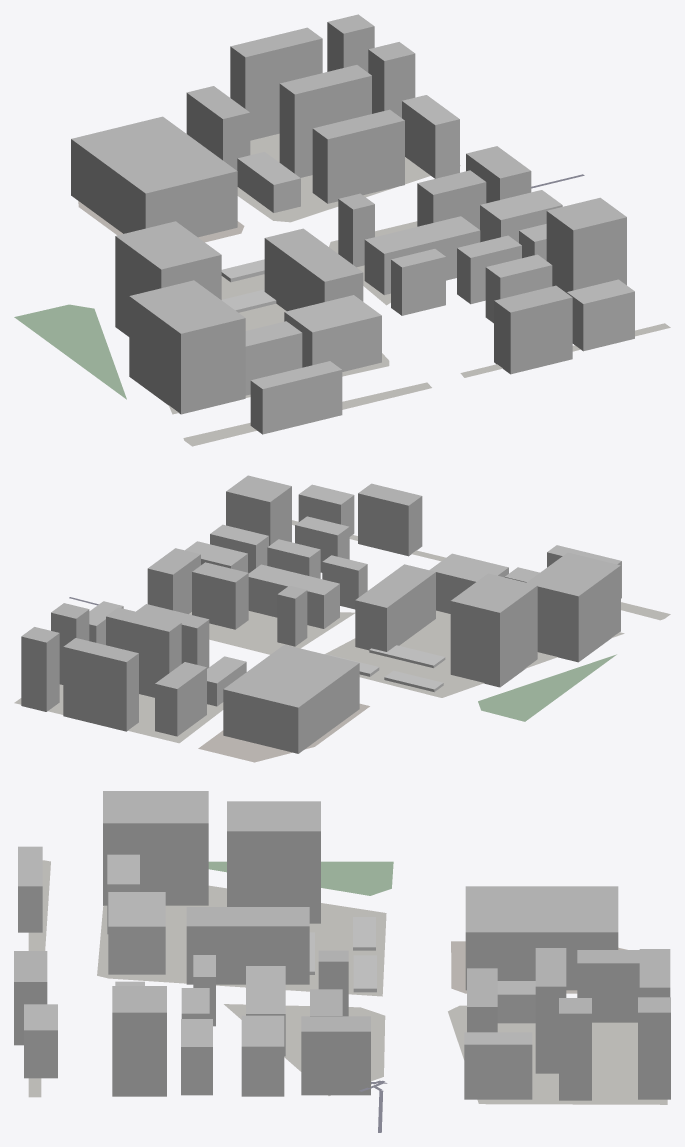
File: 115_75_mid.glb
3 views of the same model, one above another, from view 1: azimuth 30°, elevation 25°; view 2: azimuth 150°, elevation 25°; view 3: azimuth 270°, elevation 25° (orthographic). The views are drawn at different scales.
Size of the model in its own units: 521 by 80.5 by 514.
